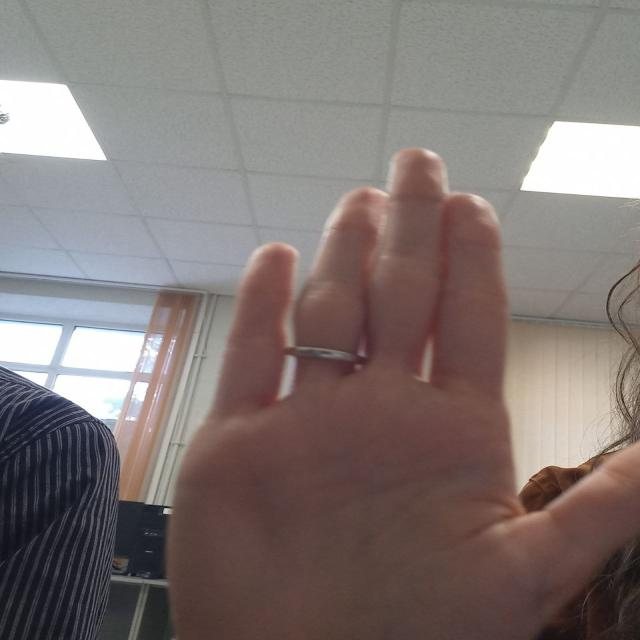v: (220, 137, 640, 628)
